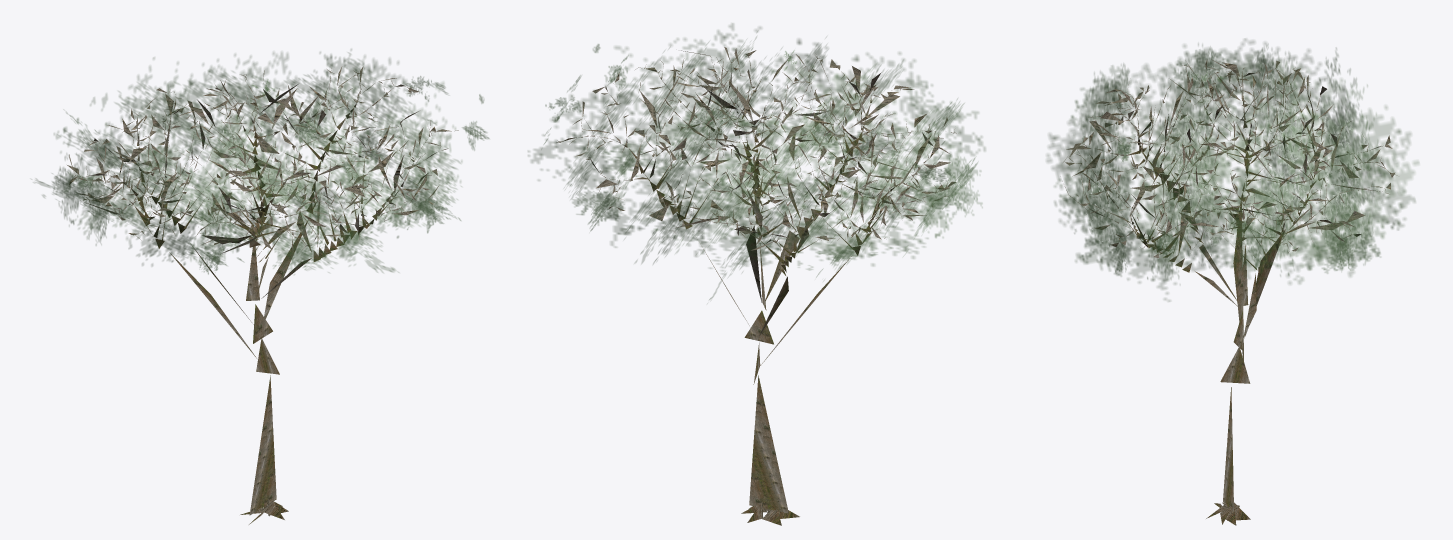
File: world_tree_pine_far.glb
3 renders of one model, left to right at view 1: azimuth 30°, elevation 25°; view 2: azimuth 150°, elevation 25°; view 3: azimuth 270°, elevation 25°, orthographic. The views are drawn at different scales.
Visible parts, largest first — view 1: Canopy, Scaffold; view 2: Canopy, Scaffold; view 3: Canopy, Scaffold.
Part boxes in pixels (box(x1,y1,x2,y2)): Canopy: box(35, 49, 489, 277); Scaffold: box(67, 66, 458, 524); Canopy: box(528, 23, 985, 299); Scaffold: box(556, 47, 956, 525); Canopy: box(1047, 39, 1418, 301); Scaffold: box(1062, 59, 1397, 525).
Size of the model in its own units: 9.05 by 9.3 by 7.92.
Materials: 2 (2 with a texture image).
